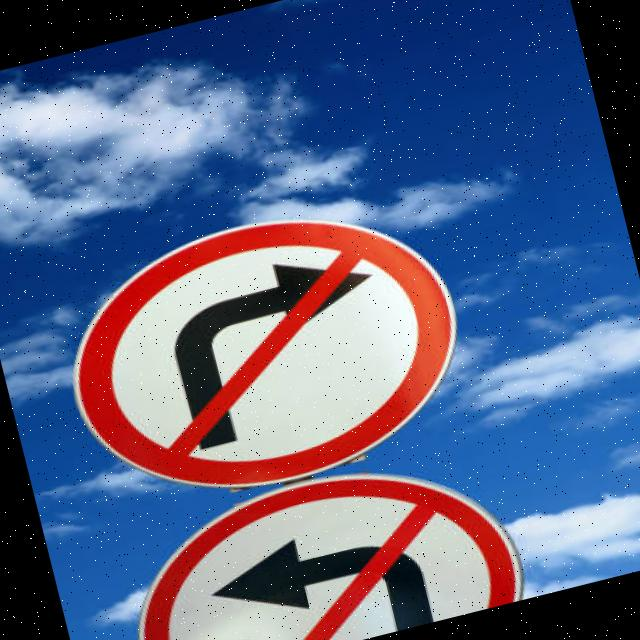do_not_turn_right: (73, 419, 544, 640)
